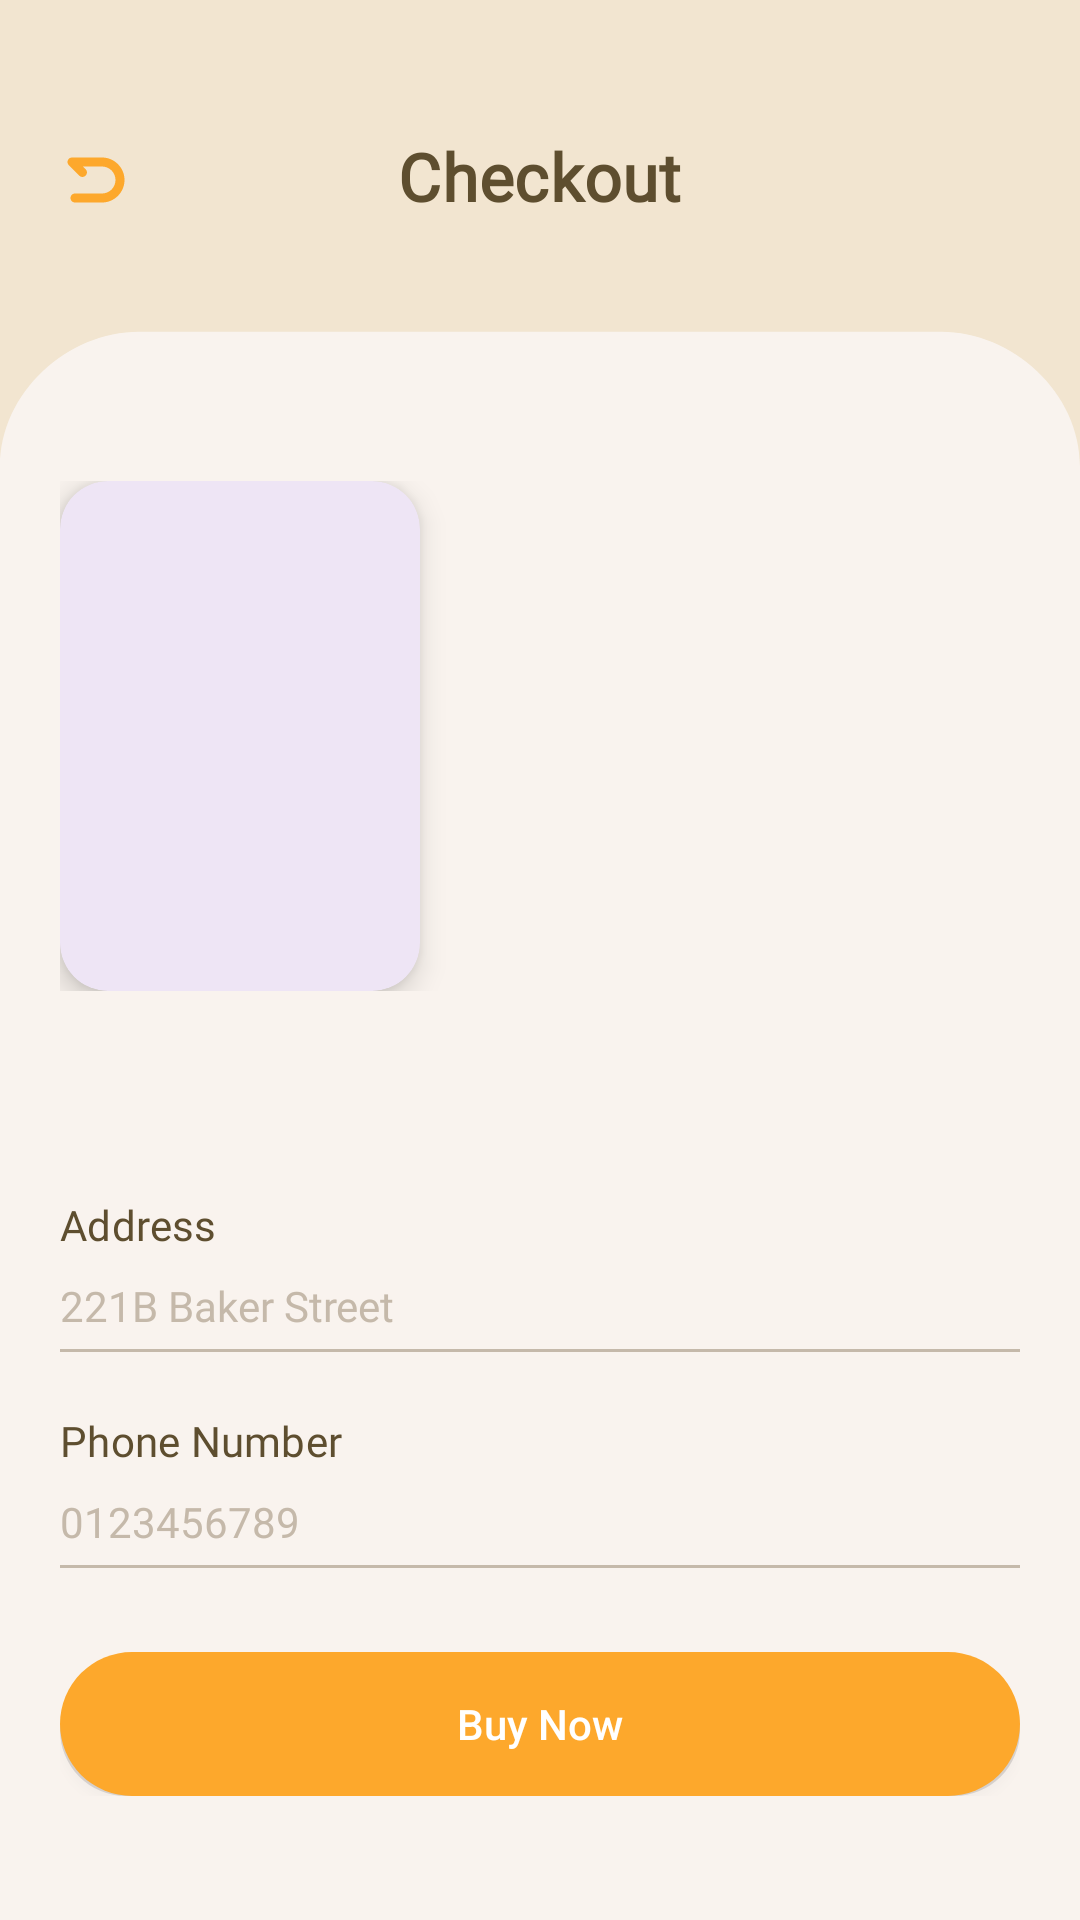

Named icons in this screenshot (1080x1920) and their centers, (x=x, y=y):
back: (x=96, y=180)
